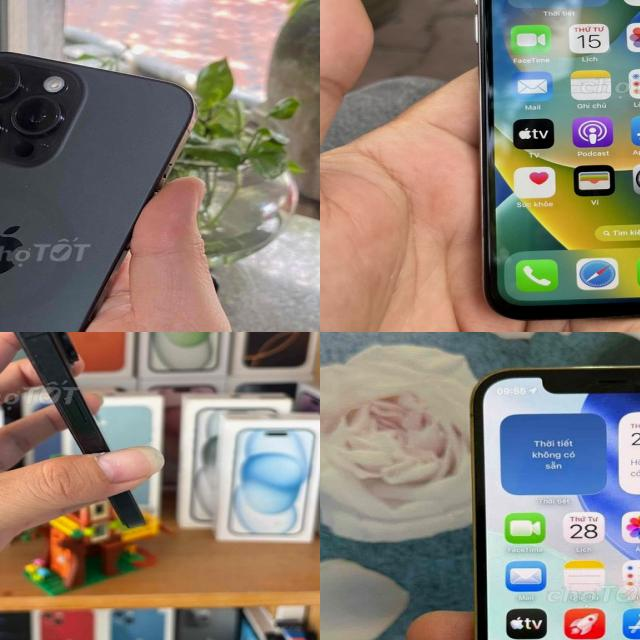scratch: (23, 336, 73, 406)
